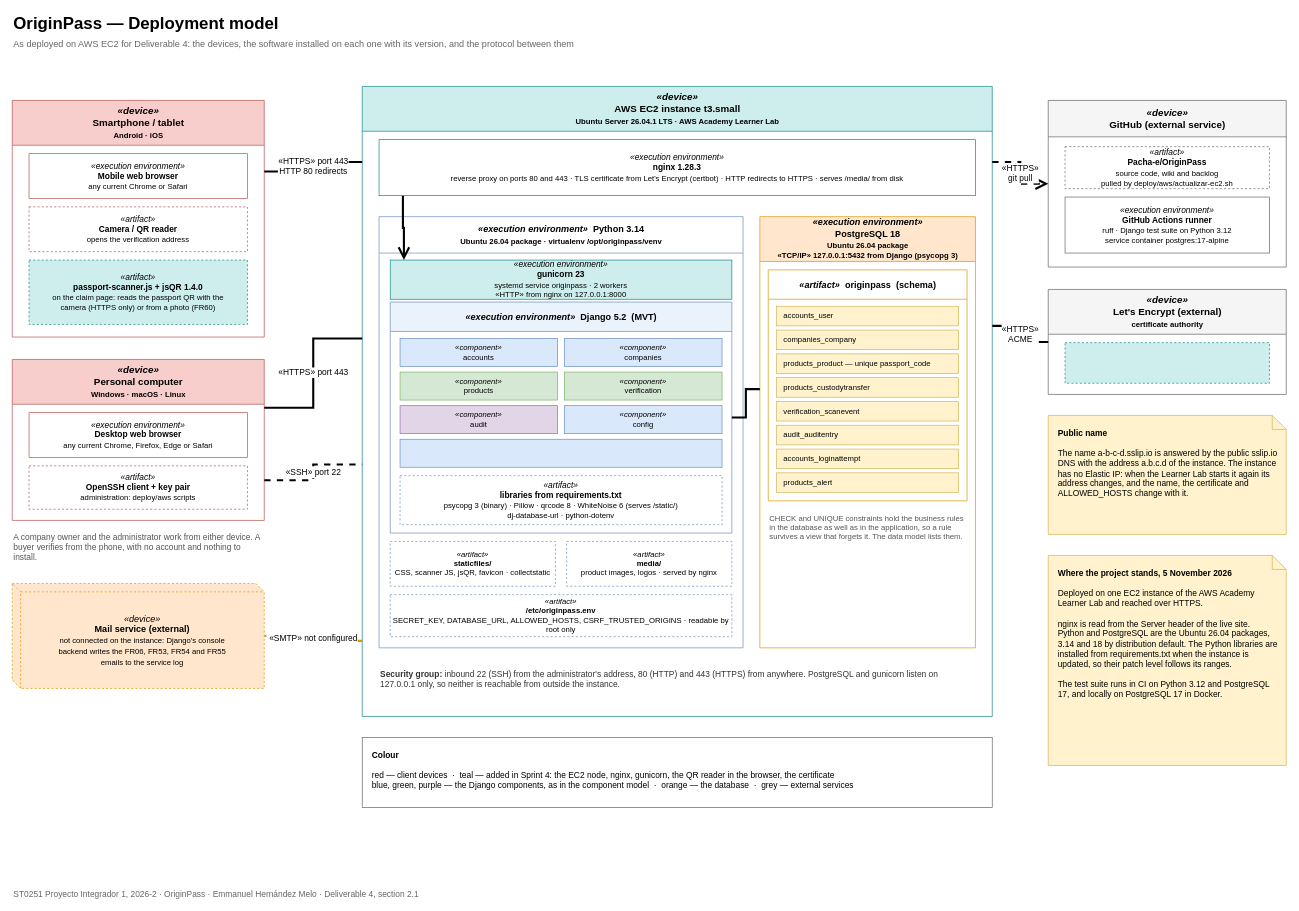
Image size: 1299x911. Some labels were removed from this diagram. Each missing label, with the centre of its shape:
«artifact» TLS certificate for the sslip.io name · renewed by certbot: point (1166, 362)
«component» pages: point (560, 453)
